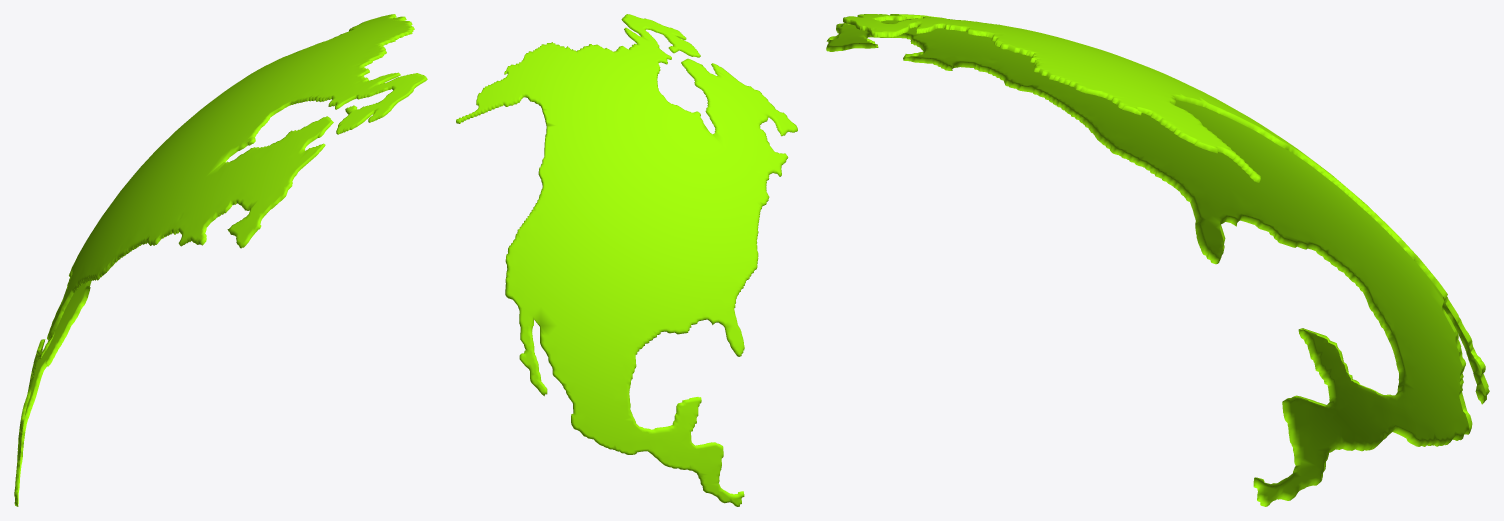
The model's file is North America.fbx.
3 renders of one model, left to right at view 1: azimuth 30°, elevation 25°; view 2: azimuth 150°, elevation 25°; view 3: azimuth 270°, elevation 25°, orthographic. The views are drawn at different scales.
Parts seen in each view (by area): view 1: North America; view 2: North America; view 3: North America.
Part boxes in pixels (<box>): North America: <box>14,14,427,506</box>; North America: <box>456,14,797,506</box>; North America: <box>826,14,1489,506</box>.
Bounding box in the file's own units: 4995 × 5995 × 5399.
